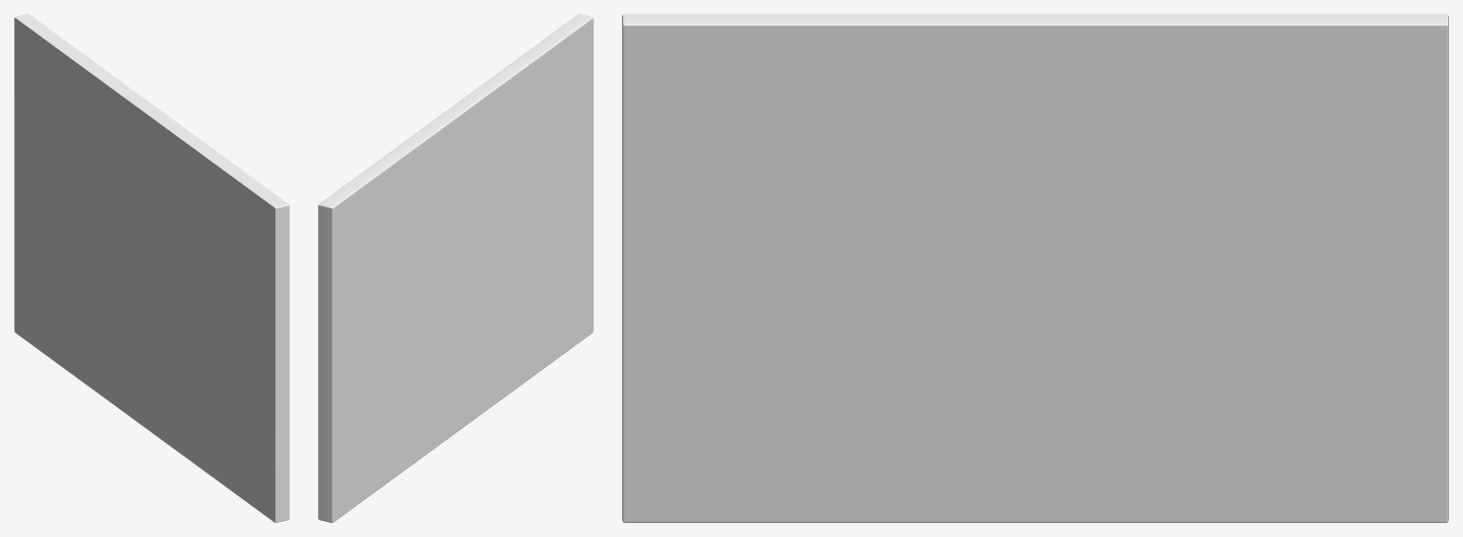
File: sideWall.fbx
3 views of the same model, side by side, from view 1: azimuth 30°, elevation 25°; view 2: azimuth 150°, elevation 25°; view 3: azimuth 270°, elevation 25° (orthographic). The views are drawn at different scales.
Visible parts, largest first — view 1: sideWall; view 2: sideWall; view 3: sideWall.
Part boxes in pixels (x1,y1,x2,y2): sideWall: [14, 14, 289, 522]; sideWall: [318, 14, 593, 522]; sideWall: [622, 14, 1448, 522].
Bounding box in the file's own units: 6 × 120 × 180.
